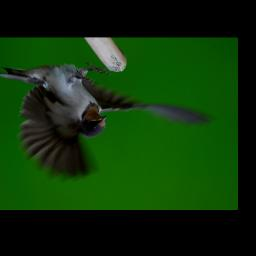Swallow: (0, 62, 211, 182)
